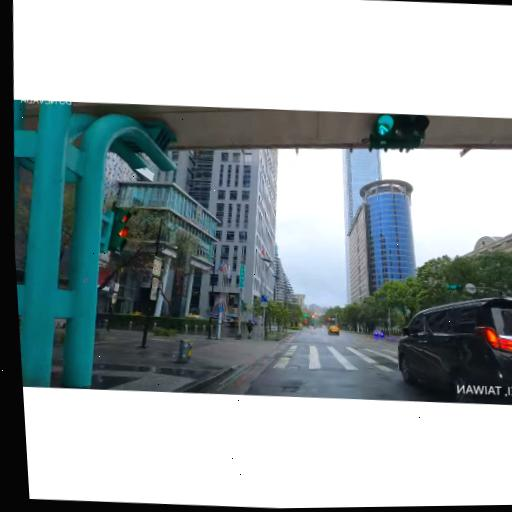Car: (392, 289, 512, 407), (328, 324, 342, 335), (372, 330, 384, 337)
